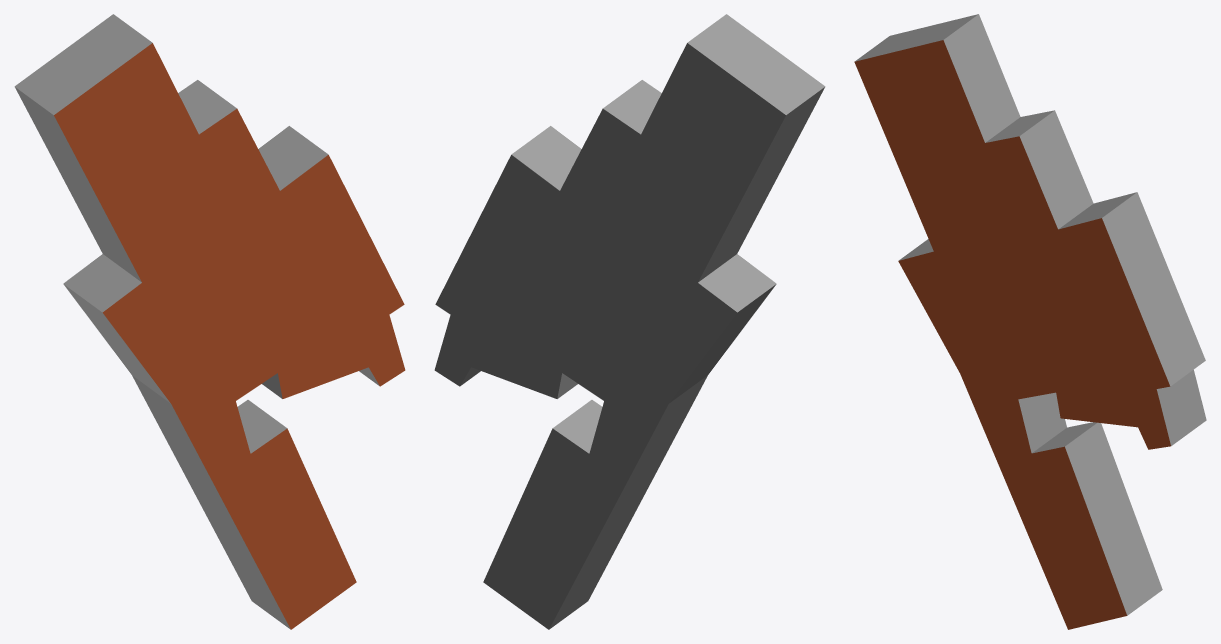
Rendered from construction_6628_assumed_A_Casa_h6m.obj.
The picture shows the model from 3 angles, left to right: view 1: azimuth 30°, elevation 25°; view 2: azimuth 150°, elevation 25°; view 3: azimuth 330°, elevation 25°; orthographic projection. The views are drawn at different scales.
Visible parts, largest first — view 1: construction_6628_assumed_A_Casa; view 2: construction_6628_assumed_A_Casa; view 3: construction_6628_assumed_A_Casa.
Boxes of the visible parts, box(x1,y1,x2,y2) form: construction_6628_assumed_A_Casa: box(14, 14, 405, 629); construction_6628_assumed_A_Casa: box(434, 14, 825, 629); construction_6628_assumed_A_Casa: box(854, 14, 1206, 629).
Bounding box in the file's own units: 30.93 × 52.19 × 6.
